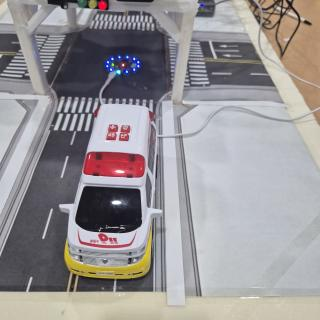Ambulance: (59, 104, 162, 279)
